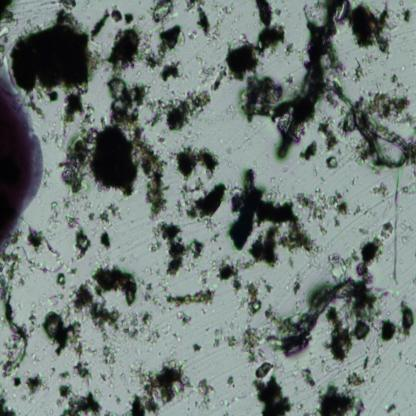Background material: (272, 0, 350, 161), (264, 277, 386, 361), (7, 8, 101, 102), (235, 170, 318, 267), (174, 142, 227, 224), (54, 101, 96, 204), (77, 282, 121, 380), (127, 354, 190, 416), (92, 116, 138, 198), (0, 252, 30, 376), (130, 132, 173, 216), (148, 217, 205, 280), (24, 218, 79, 279), (146, 86, 211, 134), (238, 273, 269, 362), (296, 187, 351, 234), (348, 0, 394, 55), (101, 24, 141, 80), (107, 78, 149, 130), (91, 265, 141, 308), (254, 0, 286, 64), (136, 28, 182, 69), (45, 309, 85, 356), (122, 312, 174, 348), (242, 75, 284, 119), (316, 383, 367, 416), (54, 384, 104, 416), (225, 35, 261, 79), (253, 376, 292, 416), (242, 224, 278, 266), (63, 208, 93, 258), (358, 233, 386, 279), (208, 0, 238, 42), (183, 1, 212, 40), (216, 256, 243, 293), (164, 289, 212, 309), (191, 270, 218, 305), (147, 0, 183, 25), (192, 378, 216, 412), (200, 63, 228, 92), (387, 71, 413, 102), (99, 203, 128, 230), (328, 252, 351, 284), (399, 298, 416, 340), (316, 118, 339, 149), (0, 0, 18, 39), (0, 380, 19, 416), (90, 8, 110, 41), (46, 116, 63, 150), (24, 372, 45, 399), (380, 318, 402, 343), (304, 246, 326, 270), (160, 63, 185, 83), (28, 301, 43, 334), (298, 140, 318, 164), (350, 56, 370, 79), (346, 370, 366, 388), (53, 366, 72, 384), (301, 366, 316, 388), (45, 200, 58, 225), (393, 10, 412, 26), (291, 272, 303, 296), (324, 153, 339, 172), (353, 204, 373, 218), (254, 363, 273, 377), (99, 232, 112, 252), (372, 184, 388, 200), (176, 309, 190, 327), (400, 225, 412, 246), (212, 327, 223, 349), (45, 294, 65, 306), (143, 283, 155, 303), (224, 333, 239, 349), (152, 294, 166, 311), (382, 219, 393, 240), (58, 0, 80, 10), (12, 373, 24, 391), (401, 180, 416, 194), (321, 356, 332, 375), (350, 244, 360, 264), (210, 229, 223, 244), (226, 317, 238, 333), (209, 258, 221, 274), (194, 53, 207, 67), (227, 103, 241, 116), (110, 8, 123, 22), (280, 72, 295, 84), (57, 272, 67, 289), (44, 170, 54, 186), (185, 27, 197, 40), (124, 13, 136, 26), (371, 357, 382, 371), (230, 394, 247, 403), (190, 340, 201, 353), (334, 366, 348, 376), (370, 322, 380, 336), (376, 338, 384, 355), (333, 215, 342, 230), (404, 357, 416, 368), (105, 409, 123, 416), (286, 43, 295, 57), (172, 332, 183, 343), (385, 403, 397, 413), (226, 377, 235, 390), (305, 407, 317, 416), (362, 356, 369, 370), (264, 282, 271, 295), (274, 362, 283, 372), (114, 393, 121, 405), (396, 351, 404, 361), (218, 399, 231, 405), (350, 176, 357, 187), (288, 256, 293, 270), (296, 401, 304, 409), (201, 307, 208, 316), (276, 7, 282, 17), (395, 289, 401, 299), (394, 390, 401, 398), (370, 375, 376, 384), (221, 411, 231, 416), (365, 346, 371, 354), (285, 282, 290, 291), (309, 358, 316, 364), (412, 277, 416, 287), (206, 327, 211, 335), (313, 166, 317, 176), (227, 147, 232, 155), (399, 0, 404, 6), (294, 385, 298, 392), (228, 161, 232, 167), (242, 375, 246, 380), (218, 245, 222, 250), (386, 311, 390, 316), (411, 388, 414, 394), (409, 403, 413, 407), (397, 413, 401, 416), (412, 290, 415, 294), (406, 398, 408, 402)
Cellulose filter fibre: (346, 99, 409, 170), (392, 169, 402, 284)
Fragment: (228, 200, 256, 251)
Pen: (0, 76, 45, 249)
